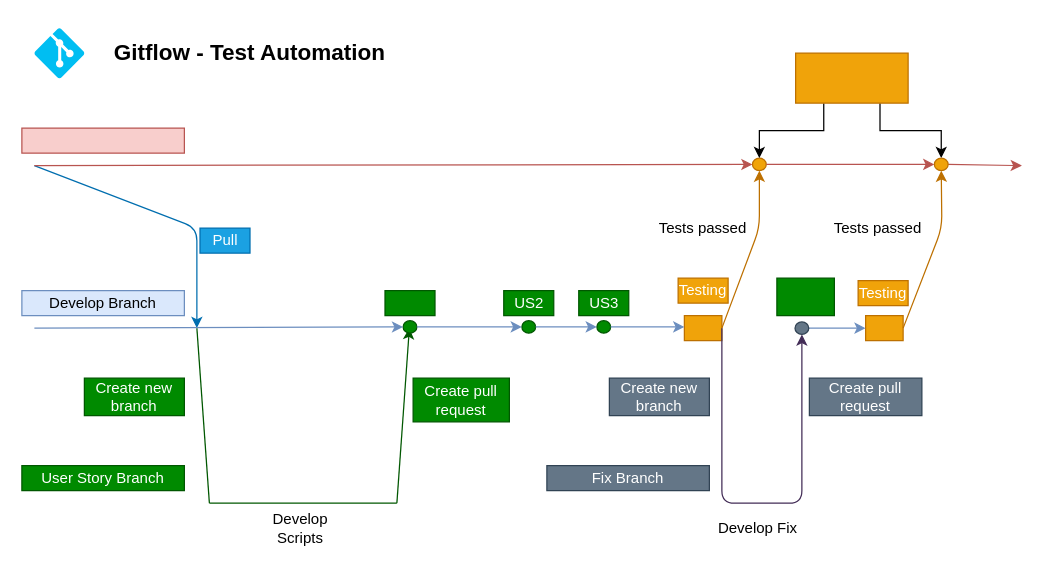
The diagram is 1054 pixels wide and 569 high, and some of its shapes have lost their labels. Here are the shapes that lost their labels. From the top down, the centre of each, then its label:
At pixel 851 77: "US1,US2,US3".
At pixel 102 140: "Master Branch".
At pixel 409 302: "US1".
At pixel 805 296: "US1..3 fix".
